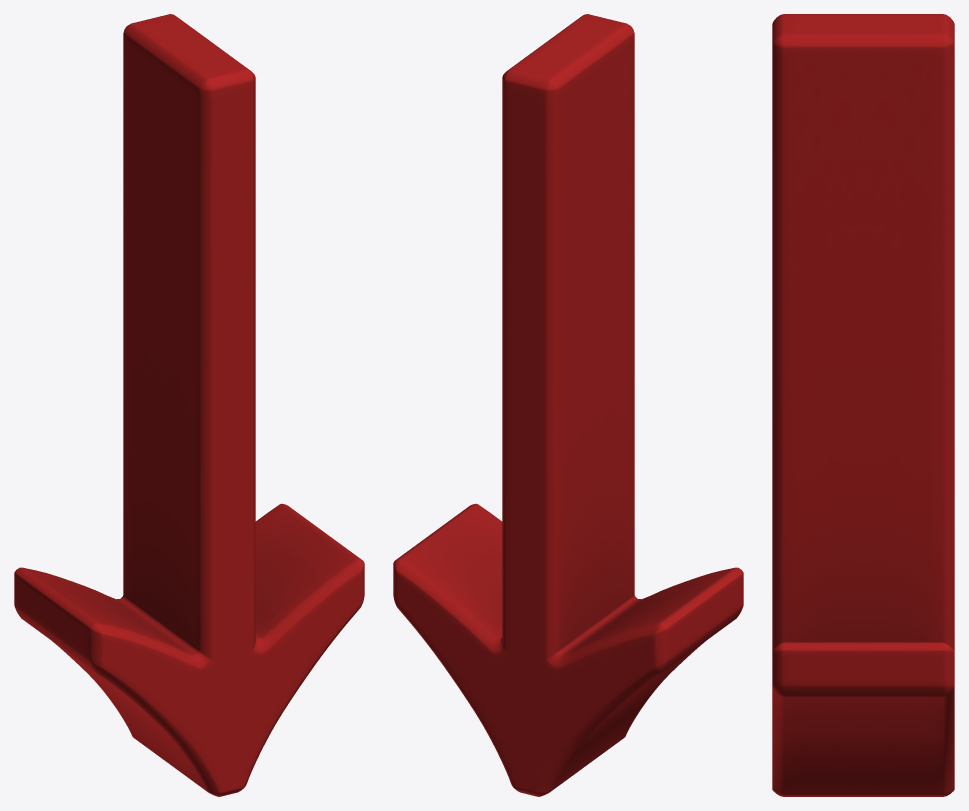
The model's file is arrow.gltf.
The picture shows the model from 3 angles, left to right: view 1: azimuth 30°, elevation 25°; view 2: azimuth 150°, elevation 25°; view 3: azimuth 270°, elevation 25°; orthographic projection. The views are drawn at different scales.
Parts seen in each view (by area): view 1: node_id30; view 2: node_id30; view 3: node_id30.
Part boxes in pixels (x1,y1,x2,y2): node_id30: [14, 14, 364, 796]; node_id30: [393, 14, 743, 796]; node_id30: [772, 14, 954, 796].
Bounding box in the file's own units: 0.2039 × 0.512 × 0.11.
Materials: 1 (1 with a texture image).
